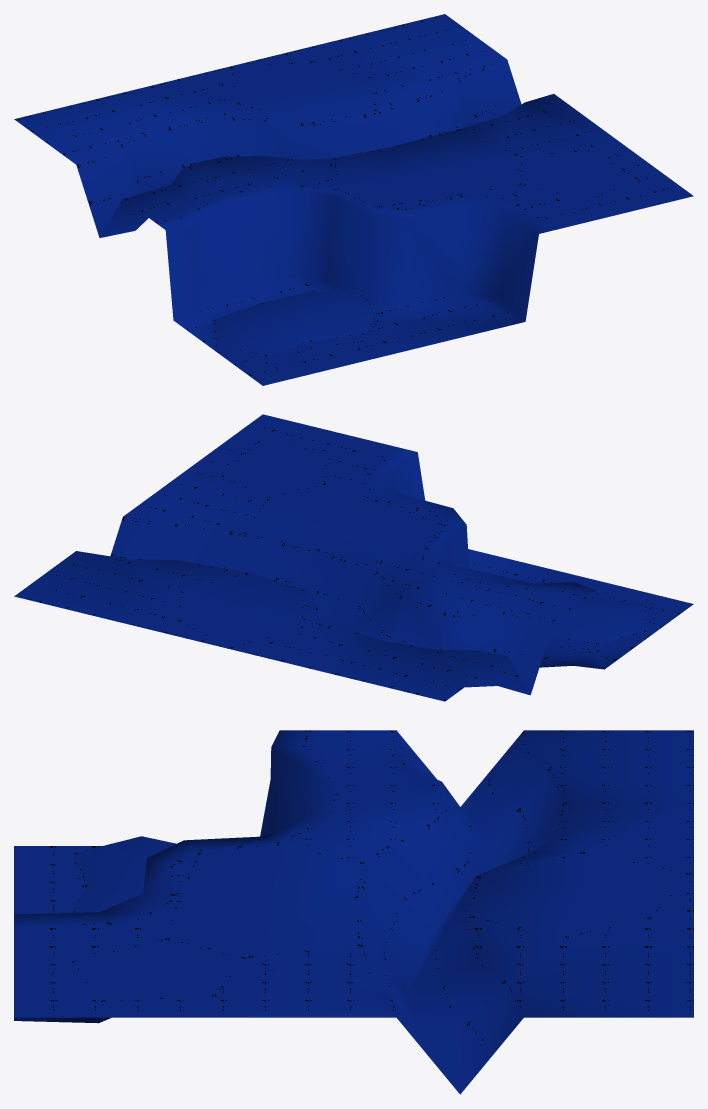
Rendered from GRD_S_C5_R2_2.fbx.
The picture shows the model from 3 angles, top to bottom: view 1: azimuth 30°, elevation 25°; view 2: azimuth 150°, elevation 25°; view 3: azimuth 270°, elevation 25°; orthographic projection. The views are drawn at different scales.
Visible parts, largest first — view 1: material_00022000, material_00052000, material_C0032000, material_C0042000, material_C0012000, material_C0062000; view 2: material_00022000, material_C0032000, material_C0042000, material_00052000, material_C0012000, material_C0062000; view 3: material_00022000, material_C0032000, material_C0042000, material_00052000, material_C0012000.
Part boxes in pixels (<box>): material_00022000: <box>14,14,693,385</box>; material_00052000: <box>154,183,558,321</box>; material_C0032000: <box>229,61,638,207</box>; material_C0042000: <box>76,60,521,237</box>; material_C0012000: <box>213,291,378,356</box>; material_C0062000: <box>213,317,378,363</box>; material_00022000: <box>14,414,693,701</box>; material_C0032000: <box>176,443,443,648</box>; material_C0042000: <box>110,517,553,695</box>; material_00052000: <box>364,447,596,598</box>; material_C0012000: <box>540,582,647,644</box>; material_C0062000: <box>547,631,647,651</box>; material_00022000: <box>14,730,693,1023</box>; material_C0032000: <box>71,843,693,1001</box>; material_C0042000: <box>358,730,565,1094</box>; material_00052000: <box>14,730,339,927</box>; material_C0012000: <box>71,836,176,912</box>.
Bounding box in the file's own units: 12800 × 2400 × 12800.
